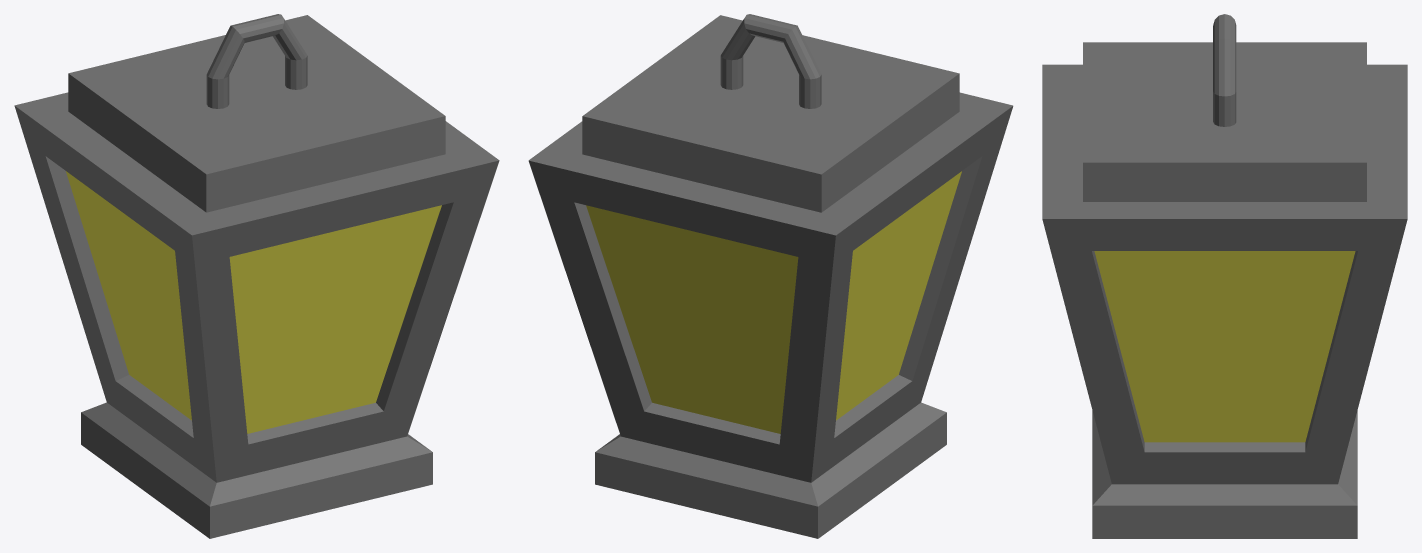
The model's file is Lantern.fbx.
3 views of the same model, side by side, from view 1: azimuth 30°, elevation 25°; view 2: azimuth 150°, elevation 25°; view 3: azimuth 270°, elevation 25° (orthographic). The views are drawn at different scales.
Visible parts, largest first — view 1: Lantern; view 2: Lantern; view 3: Lantern.
Part boxes in pixels (x1=…): Lantern: x1=14, y1=14, x2=499, y2=538; Lantern: x1=528, y1=14, x2=1013, y2=538; Lantern: x1=1042, y1=14, x2=1407, y2=538.
Size of the model in its own units: 504 by 695 by 504.
